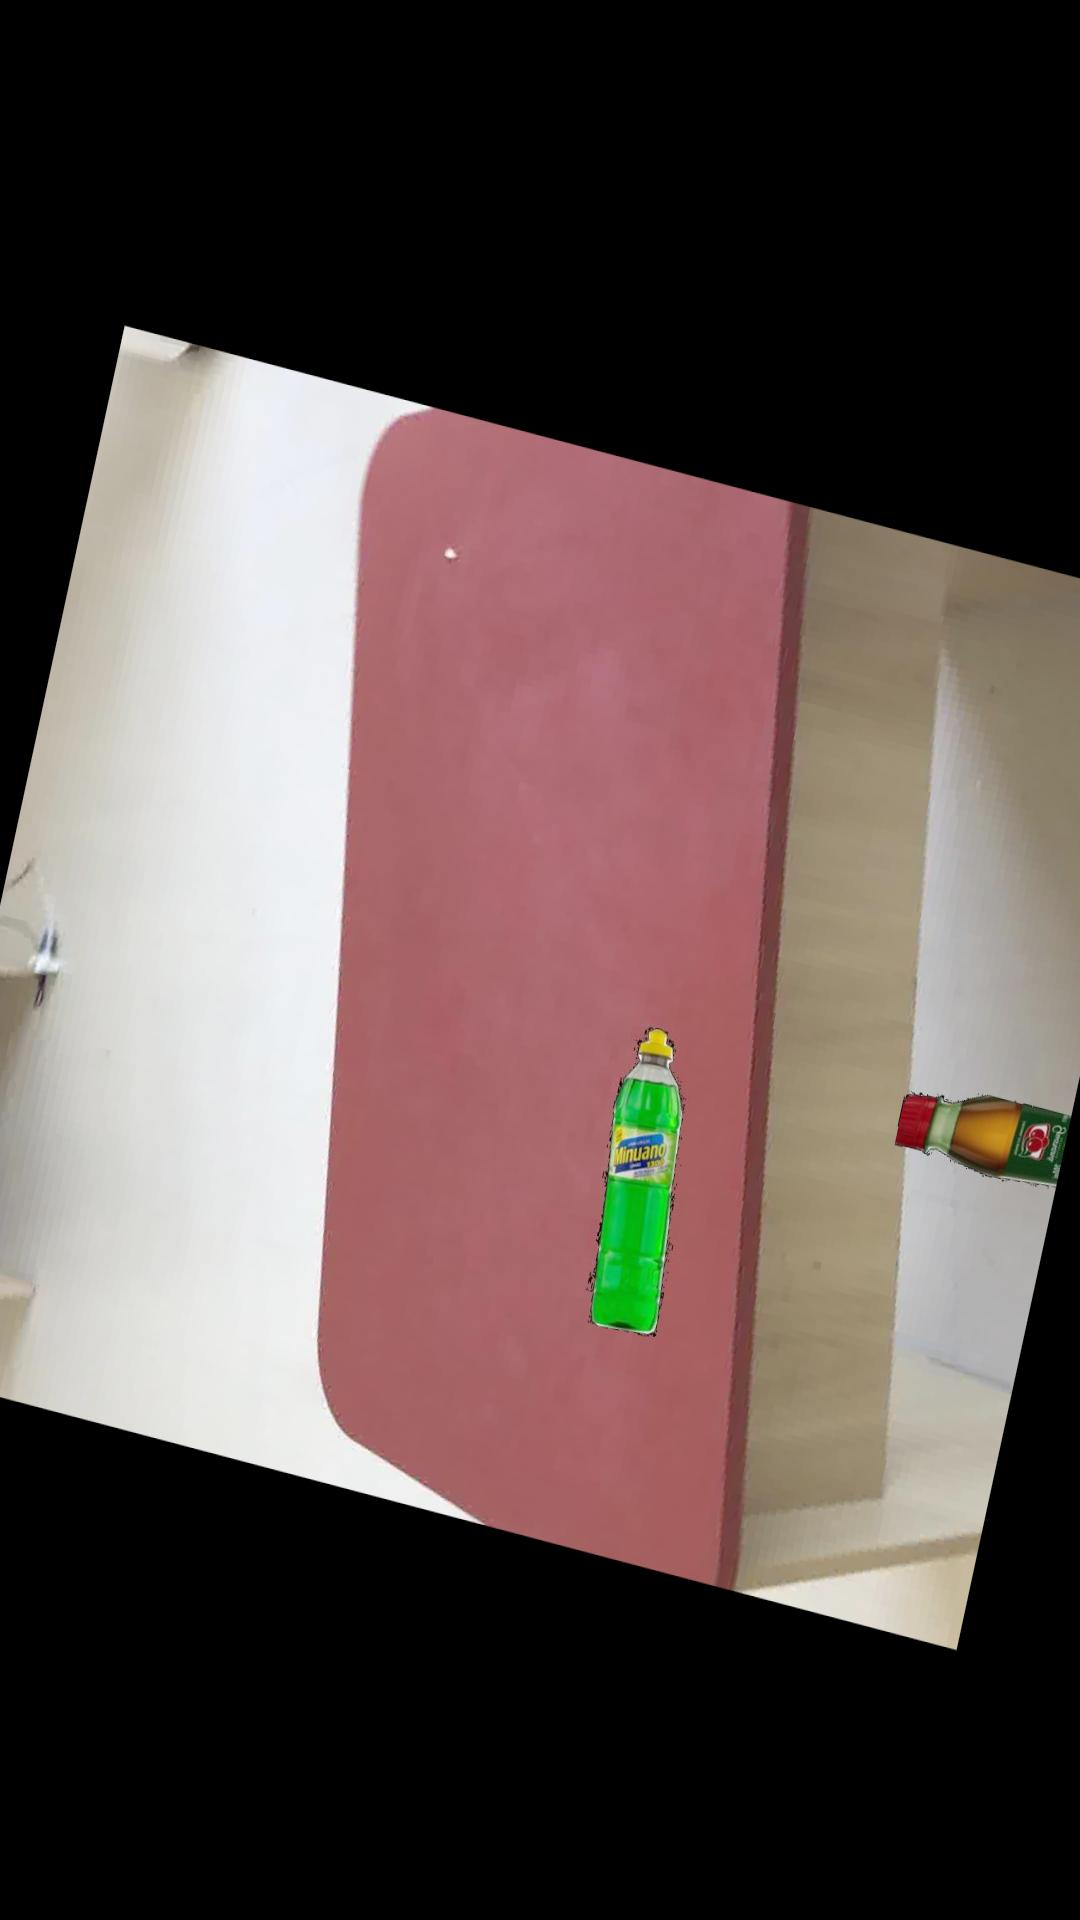cleaner: (585, 1018, 682, 1328)
guarana: (891, 1080, 1071, 1174)
